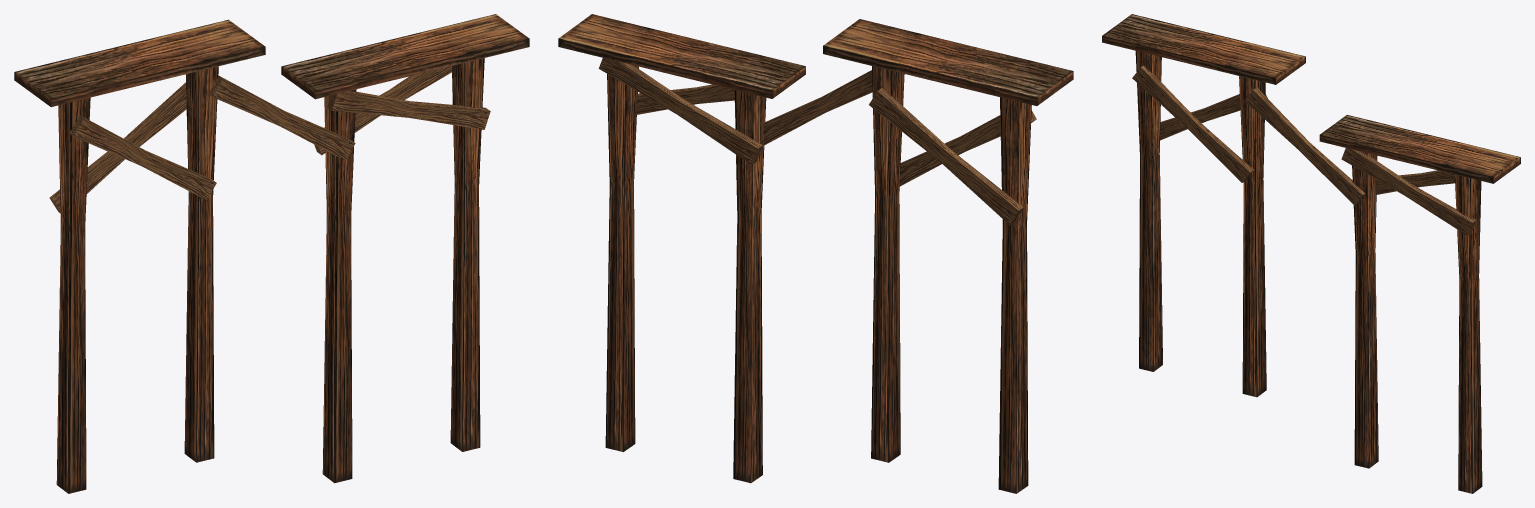
The model's file is LAKETOWN_WAREHOUSE2_PS_WH2_PLATFORM2_373__GX.fbx.
3 views of the same model, side by side, from view 1: azimuth 30°, elevation 25°; view 2: azimuth 150°, elevation 25°; view 3: azimuth 330°, elevation 25° (orthographic). The views are drawn at different scales.
Visible parts, largest first — view 1: LAKETOWN_WAREHOUSE2_PS_WH2_PLATFORM2_373__GX; view 2: LAKETOWN_WAREHOUSE2_PS_WH2_PLATFORM2_373__GX; view 3: LAKETOWN_WAREHOUSE2_PS_WH2_PLATFORM2_373__GX.
Part boxes in pixels (left/top/right/bottom): LAKETOWN_WAREHOUSE2_PS_WH2_PLATFORM2_373__GX: left=14, top=14, right=529, bottom=493; LAKETOWN_WAREHOUSE2_PS_WH2_PLATFORM2_373__GX: left=558, top=14, right=1073, bottom=493; LAKETOWN_WAREHOUSE2_PS_WH2_PLATFORM2_373__GX: left=1102, top=14, right=1520, bottom=493.
Size of the model in its own units: 90759 by 84264 by 12039.
3 materials, 3 textured.
